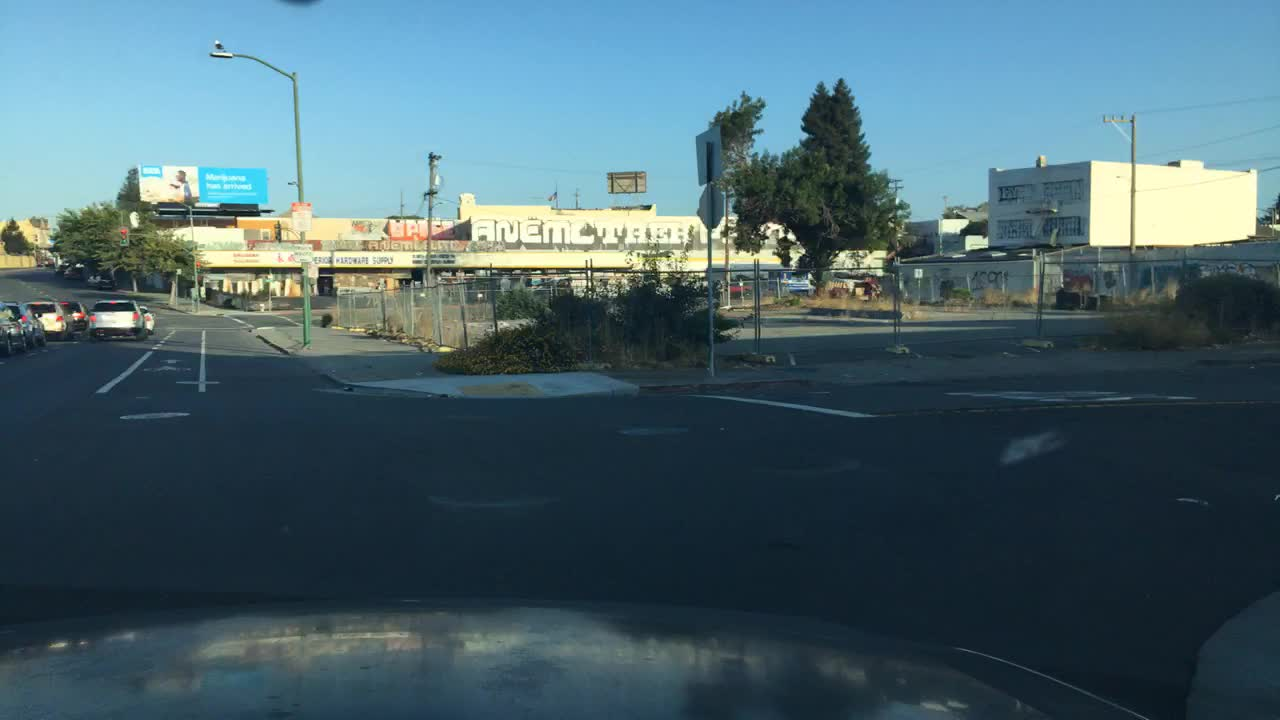bus: (705, 262, 794, 288)
car: (88, 298, 145, 341), (0, 306, 48, 348), (25, 298, 71, 341), (0, 308, 25, 352), (775, 269, 815, 296), (60, 301, 90, 333), (139, 306, 161, 339), (715, 281, 750, 298), (85, 271, 113, 288), (409, 288, 430, 306), (468, 287, 489, 302), (63, 266, 83, 281), (54, 262, 69, 276), (38, 256, 51, 268)
traffic light: (269, 217, 282, 243), (118, 227, 130, 247), (191, 258, 204, 276)
traffic sign: (693, 129, 726, 185), (695, 187, 726, 226), (604, 170, 648, 193), (291, 198, 313, 228), (292, 242, 312, 260), (912, 267, 923, 278), (173, 267, 184, 276)
